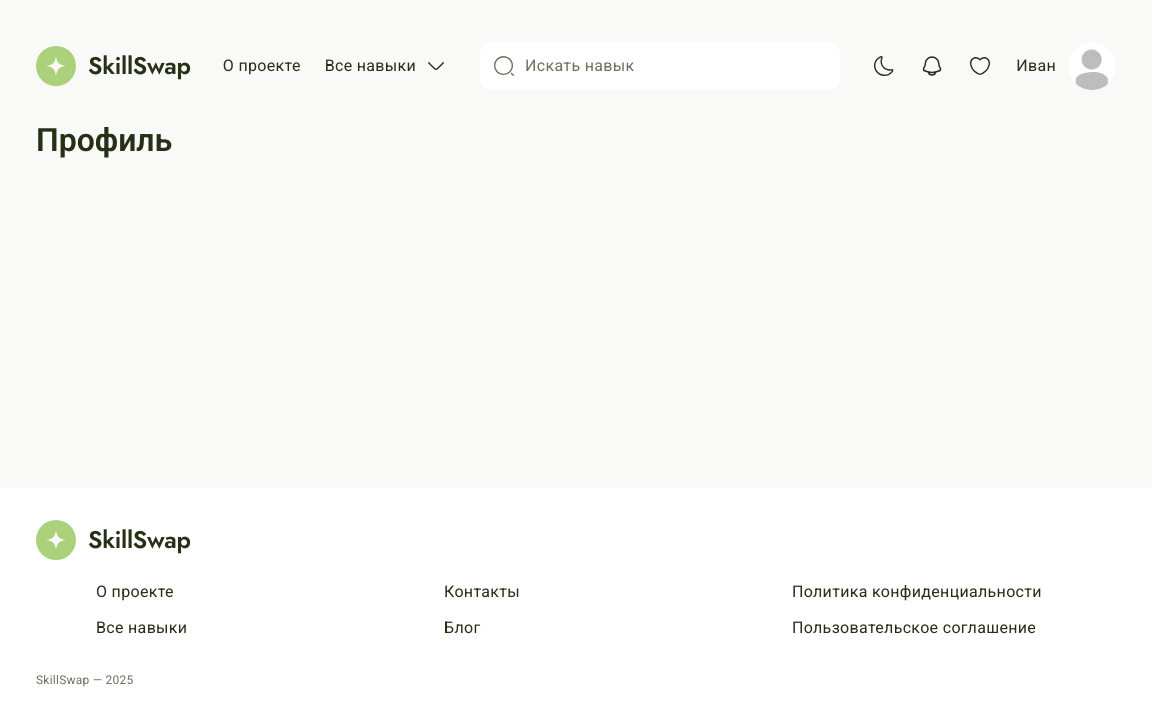
MainLayout › выход с /profile не создаёт промежуточного перехода на вход
Click the button "Иван" at coordinates (1066, 66), box top-left (1016, 42), bottom-right (1116, 90)
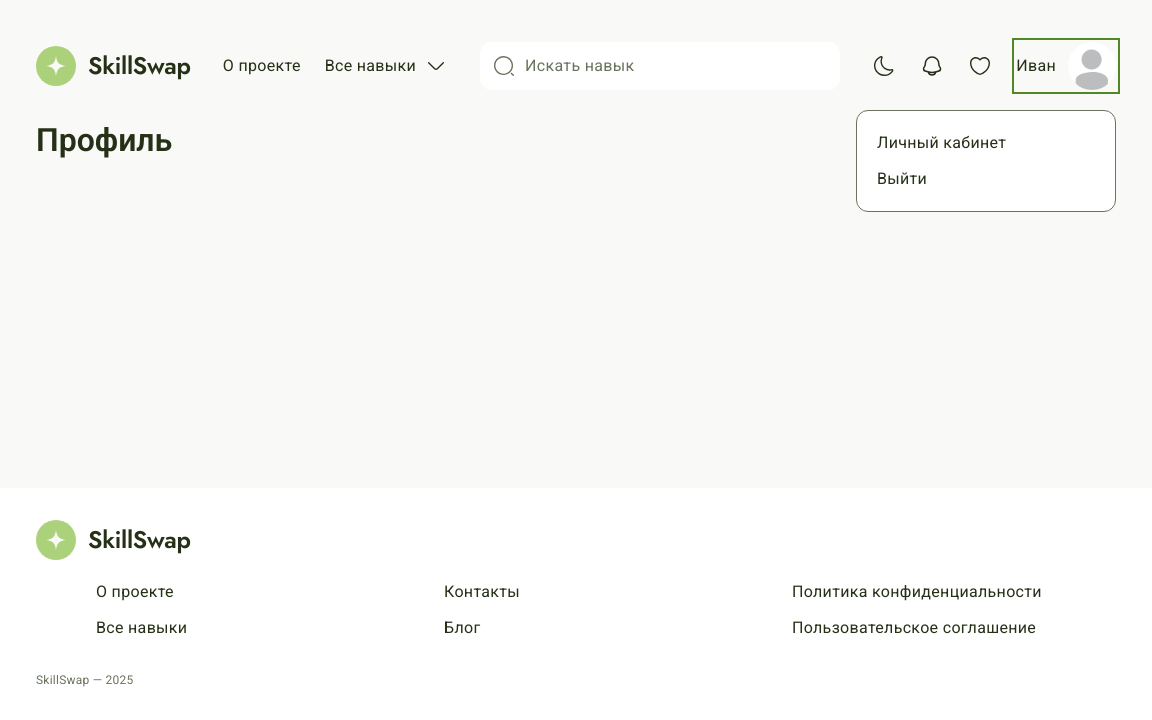
Click the button "Выйти" at coordinates (986, 179), box top-left (877, 167), bottom-right (1095, 191)
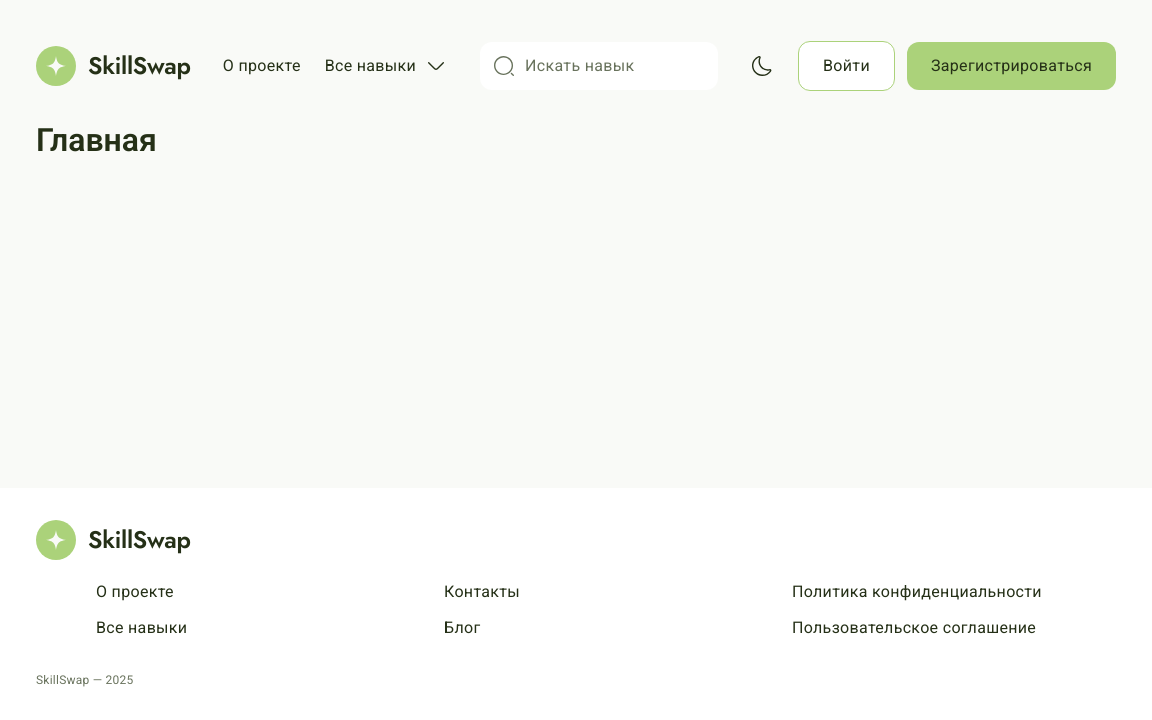
Check: the heading "Главная" is shown, box top-left (36, 121), bottom-right (157, 159)
